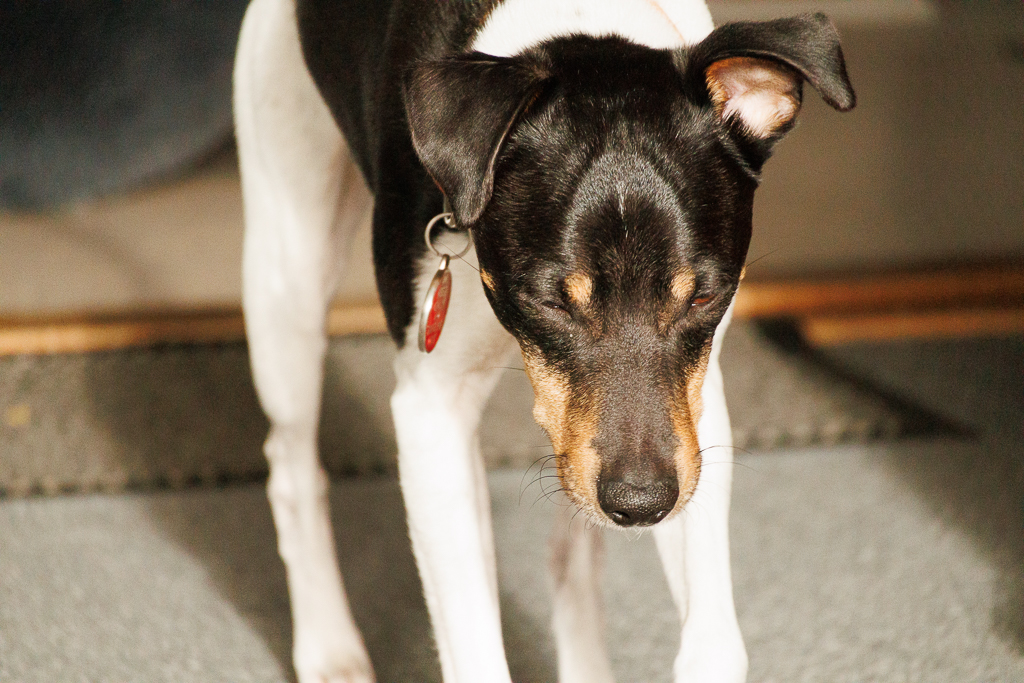Dog: (215, 0, 872, 683)
